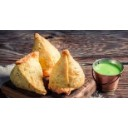samosa: (10, 49, 44, 92), (49, 51, 86, 89), (32, 32, 60, 70)
